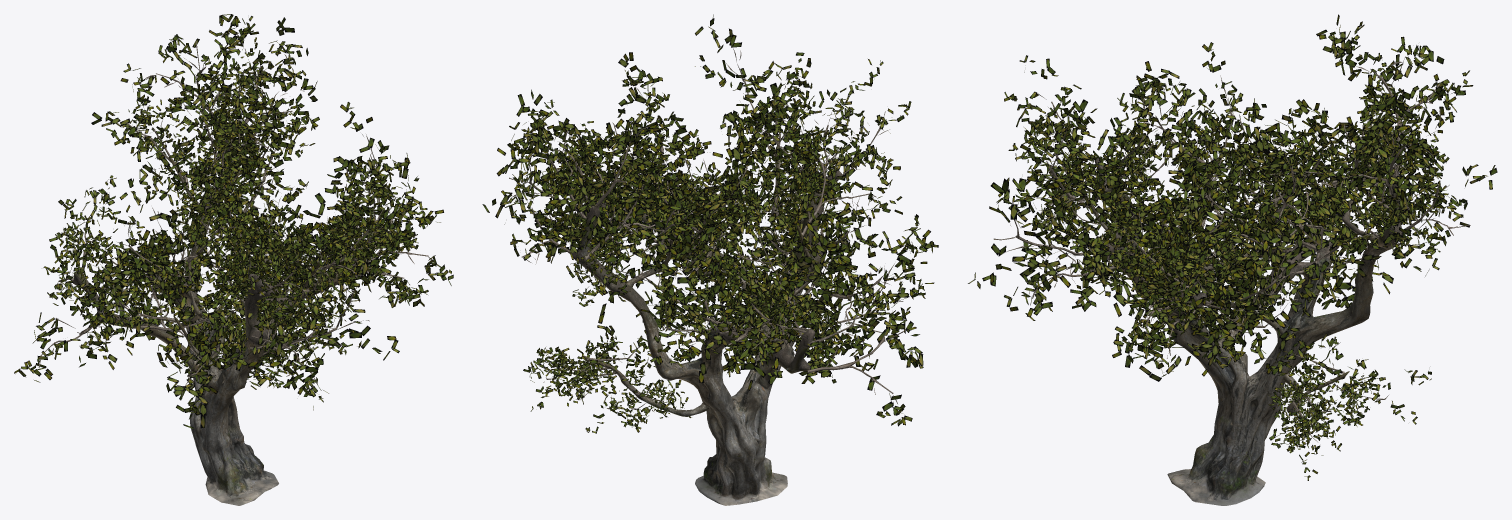
The model's file is island_tree_01_lod.gltf.
3 renders of one model, left to right at view 1: azimuth 30°, elevation 25°; view 2: azimuth 150°, elevation 25°; view 3: azimuth 270°, elevation 25°, orthographic. The views are drawn at different scales.
Visible parts, largest first — view 1: island_tree_01_LOD0; view 2: island_tree_01_LOD0; view 3: island_tree_01_LOD0.
Boxes of the visible parts, bbox=[...] form: island_tree_01_LOD0: bbox=[14, 14, 453, 505]; island_tree_01_LOD0: bbox=[482, 14, 938, 505]; island_tree_01_LOD0: bbox=[968, 14, 1497, 505].
Bounding box in the file's own units: 4.74 × 5.06 × 4.87.
Materials: 3 (3 with a texture image).
